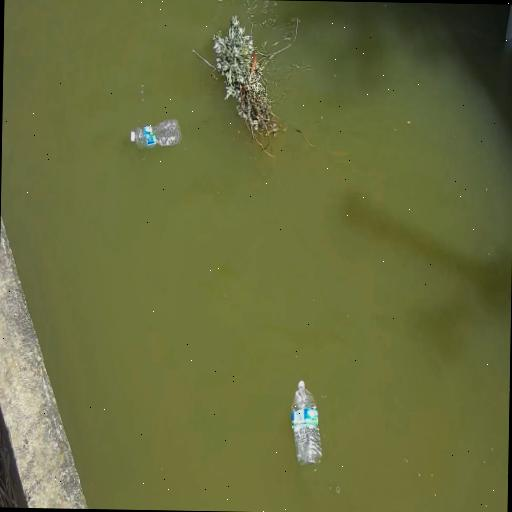plastic: (291, 381, 321, 465), (130, 119, 180, 148), (130, 130, 136, 142)
twig: (213, 16, 280, 141)
